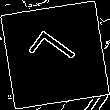L_SE: (26, 27, 84, 83)
